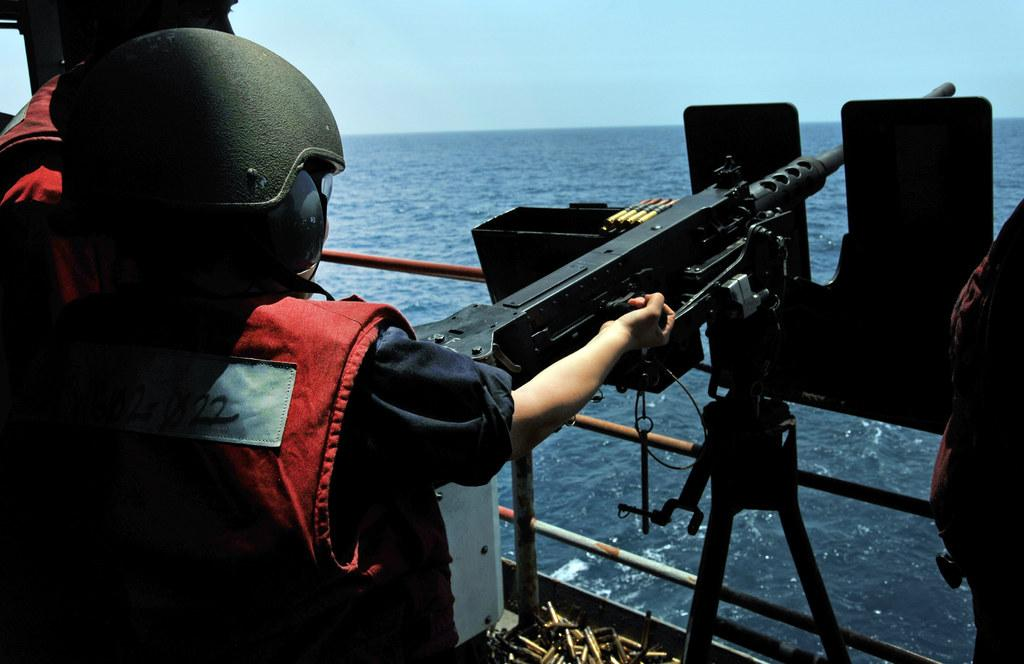Rifle: (413, 83, 956, 394)
